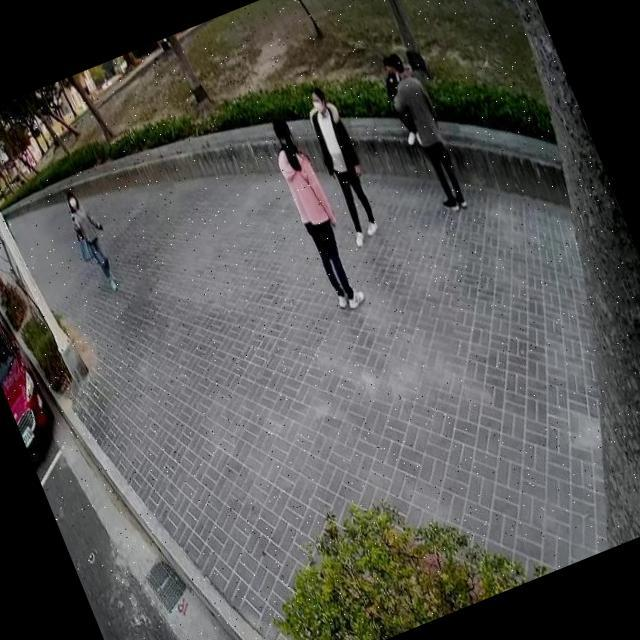person: (259, 101, 374, 318), (372, 44, 476, 220), (292, 77, 393, 253), (56, 178, 132, 302), (371, 51, 430, 152)
